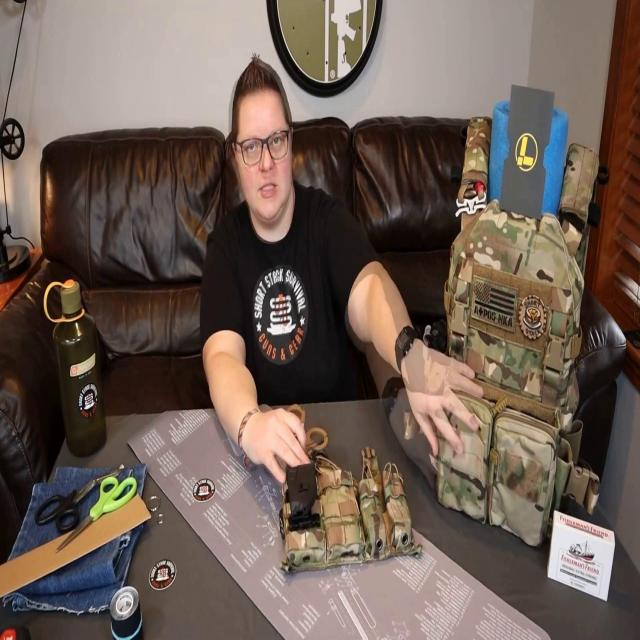scissor: (55, 476, 138, 553), (34, 468, 119, 535), (286, 404, 328, 464)
